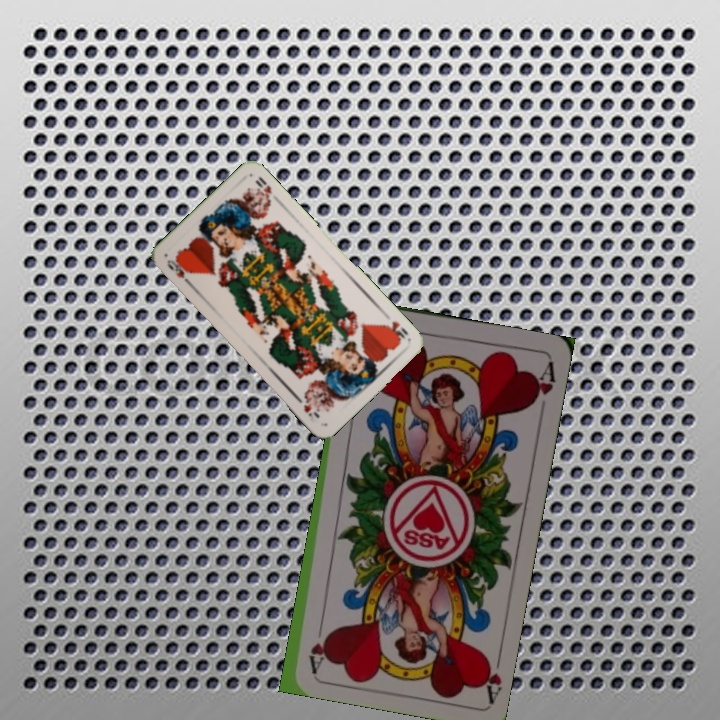HA: (475, 645, 505, 704)
HO: (163, 255, 194, 289), (380, 317, 411, 343)
